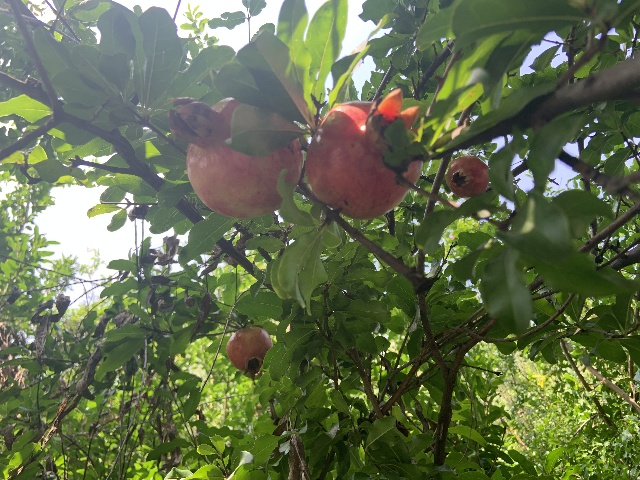ripe: (169, 96, 303, 217), (305, 88, 422, 219), (225, 326, 272, 378), (445, 155, 489, 198)
